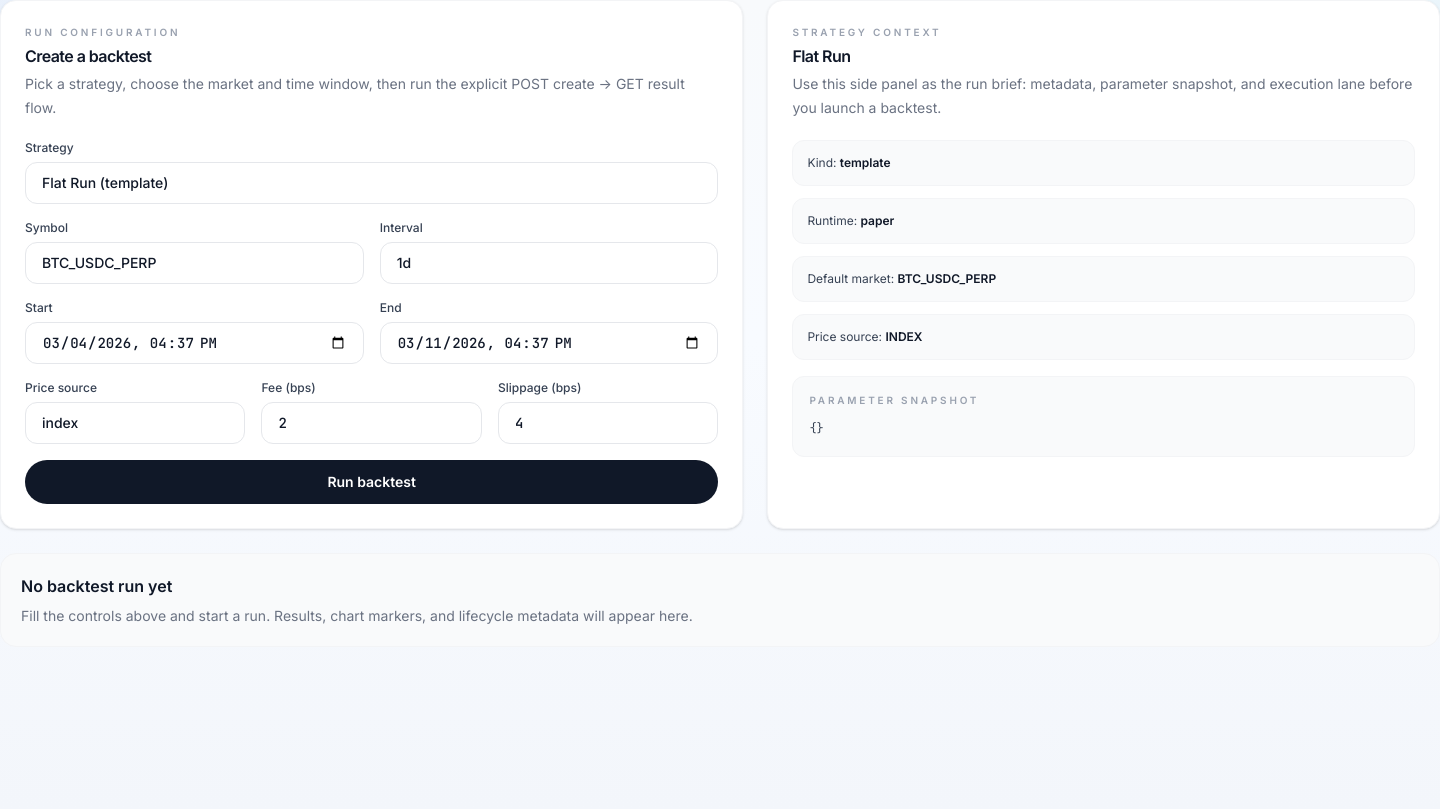
Test case: async admin pages › shows marker table empty state when a backtest returns zero trades
Click the button "Run backtest": x=372, y=482 [25,460,718,504]
(page scrolled)
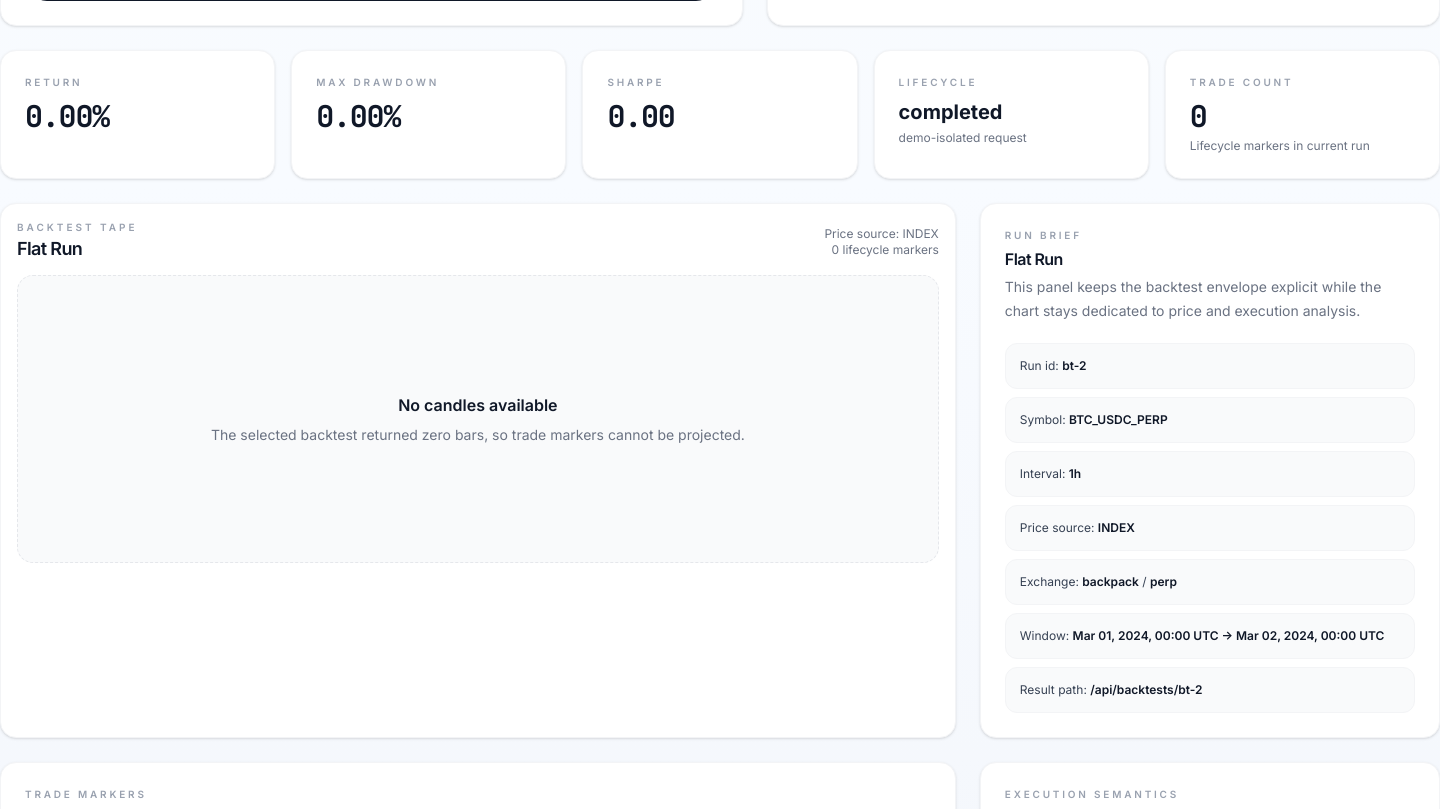
Expected: the text "No candles available" is shown, [398,395,558,415]
